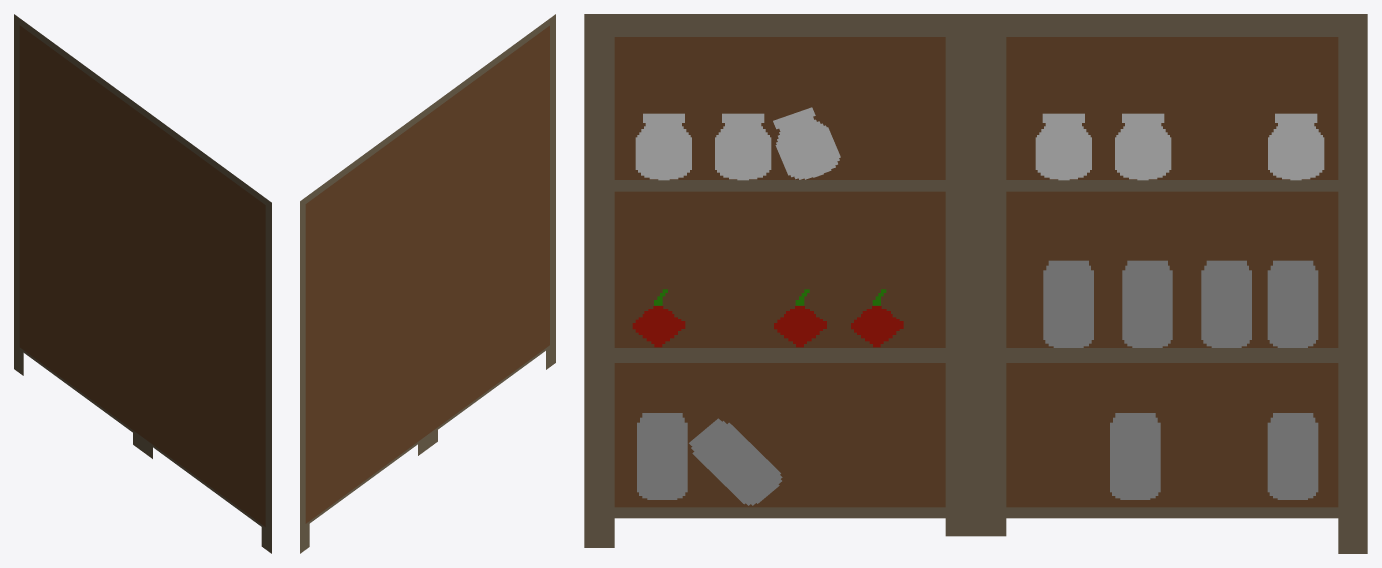
The model's file is armoir1.fbx.
3 views of the same model, side by side, from view 1: azimuth 30°, elevation 25°; view 2: azimuth 150°, elevation 25°; view 3: azimuth 270°, elevation 25° (orthographic). The views are drawn at different scales.
Parts seen in each view (by area): view 1: Mesh_006; view 2: Mesh_006; view 3: Mesh_006, Mesh_016, Mesh_017, Mesh_004, Mesh_019, Mesh_015, Mesh_020, Mesh_013, Mesh_011, Mesh_018, Mesh_008, Mesh_003 (+6 smaller).
Boxes of the visible parts, bbox=[...] form: Mesh_006: bbox=[14, 14, 271, 553]; Mesh_006: bbox=[300, 14, 555, 553]; Mesh_006: bbox=[584, 14, 1367, 553]; Mesh_016: bbox=[1267, 260, 1318, 347]; Mesh_017: bbox=[1267, 413, 1318, 499]; Mesh_004: bbox=[1122, 260, 1172, 347]; Mesh_019: bbox=[1043, 260, 1093, 347]; Mesh_015: bbox=[1201, 260, 1251, 347]; Mesh_020: bbox=[689, 418, 782, 505]; Mesh_013: bbox=[637, 413, 687, 499]; Mesh_011: bbox=[1110, 413, 1160, 499]; Mesh_018: bbox=[1268, 113, 1324, 180]; Mesh_008: bbox=[1035, 113, 1091, 180]; Mesh_003: bbox=[715, 113, 771, 180].
Size of the model in its own units: 0.0416 by 4.89 by 6.43.
